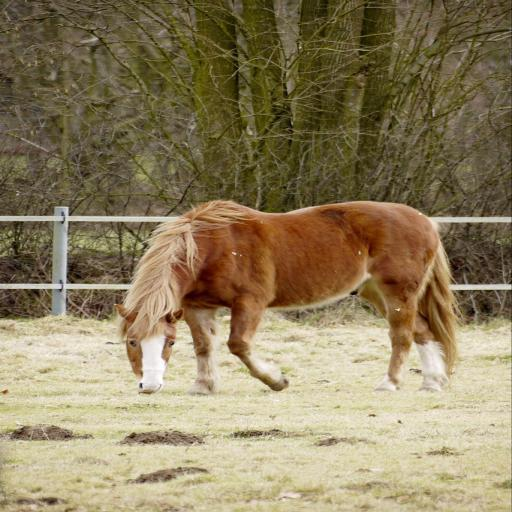horse: (114, 198, 468, 396)
